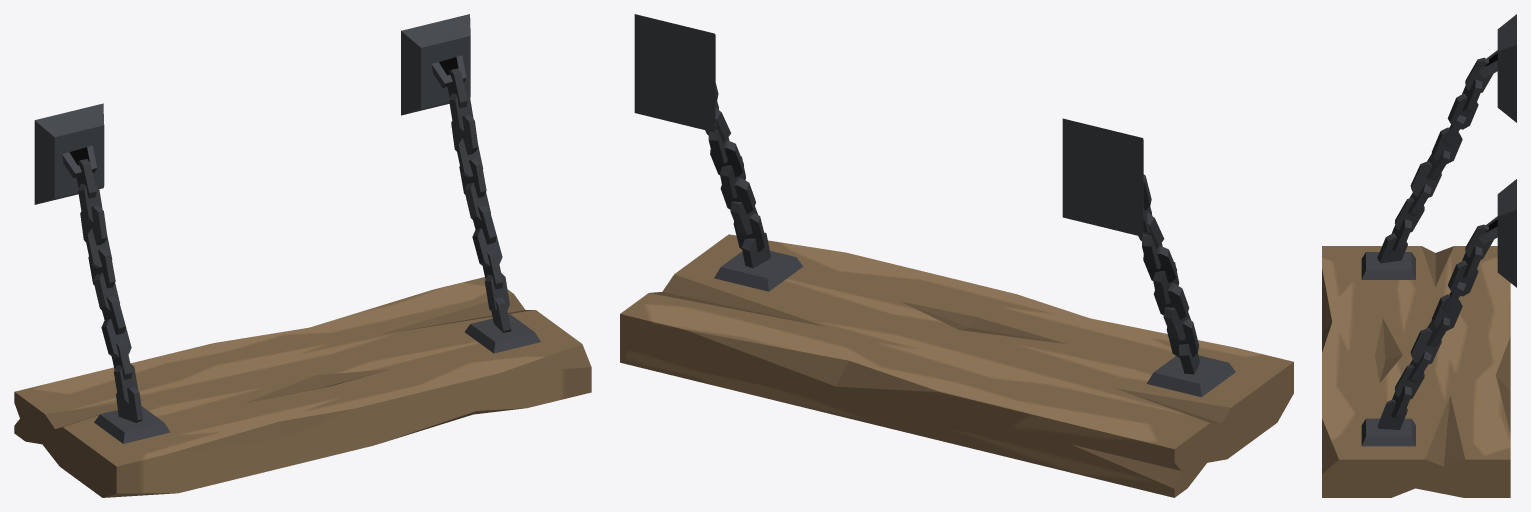
Rendered from SM_Prop_Shelf_03.fbx.
3 renders of one model, left to right at view 1: azimuth 30°, elevation 25°; view 2: azimuth 150°, elevation 25°; view 3: azimuth 270°, elevation 25°, orthographic. The views are drawn at different scales.
Parts seen in each view (by area): view 1: SM_Prop_Shelf_03; view 2: SM_Prop_Shelf_03; view 3: SM_Prop_Shelf_03.
Boxes of the visible parts, x1,y1,x2,y2 form: SM_Prop_Shelf_03: (14,14,591,497); SM_Prop_Shelf_03: (620,14,1293,497); SM_Prop_Shelf_03: (1322,14,1516,497).
Size of the model in its own units: 142 by 87.01 by 54.66.
